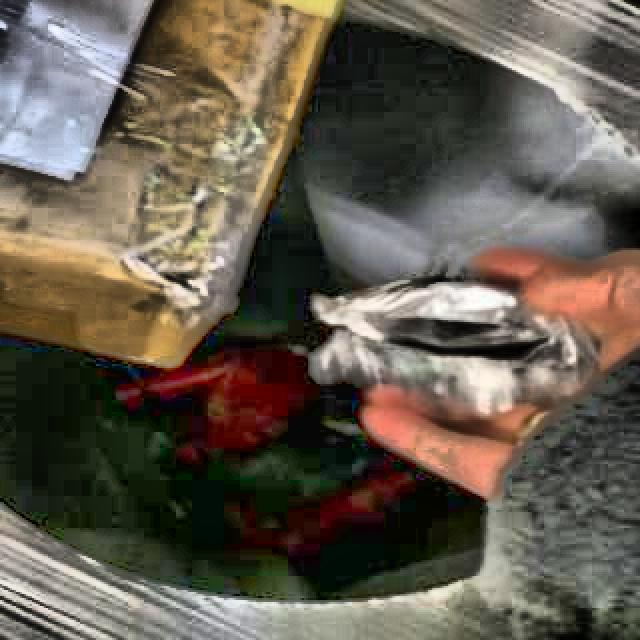metal: (313, 279, 600, 422)
